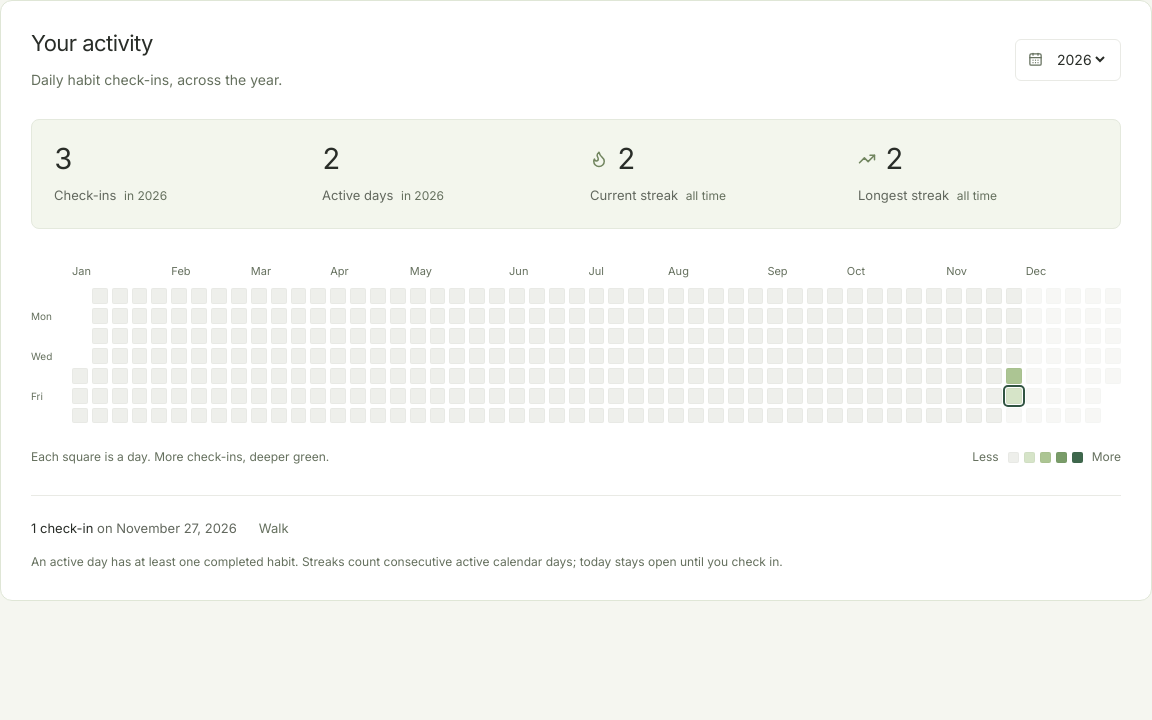
Scenario: activity calendar interactions › renders count-based intensity and leaves empty days neutral
Expected: the button named "November 28, 2026: future date" is disabled, [1006,408,1022,423]
Click the button named "November 26, 2026: 2 check-ins": (1014, 376) [1006,368,1022,384]
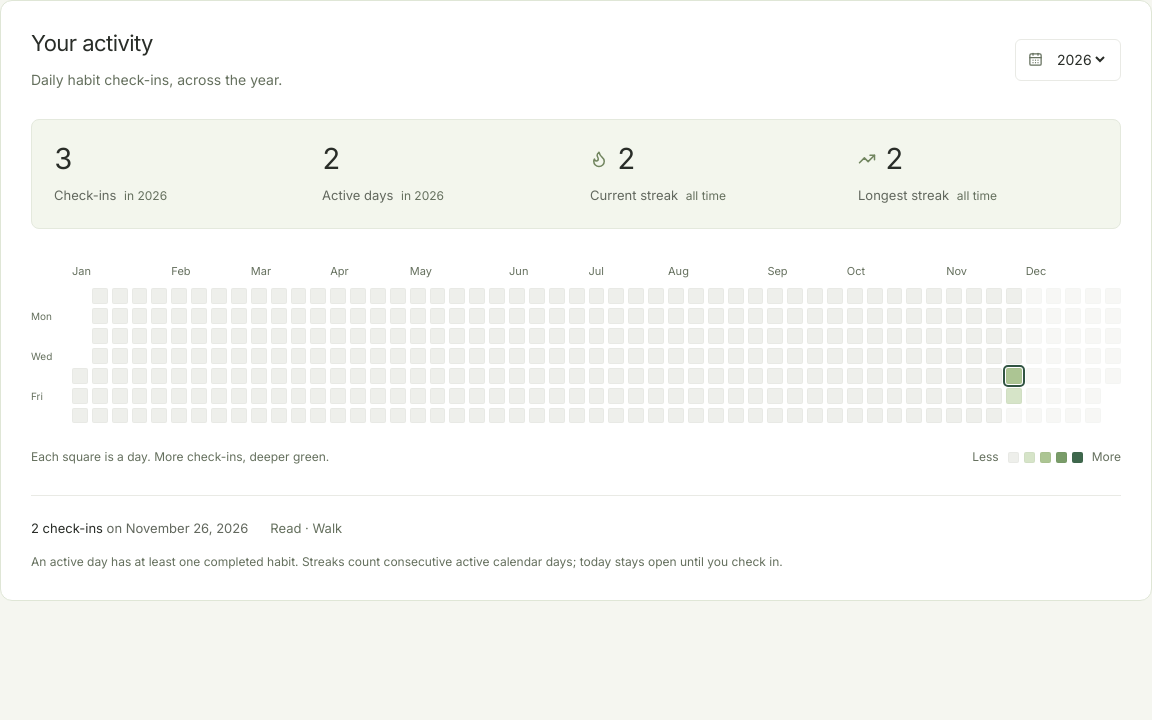
Now the element with class "activity-day-detail" shows "2 check-ins", box [31,495,1121,539]
Now the element with class "activity-day-detail" shows "Read · Walk", box [270,520,342,536]
